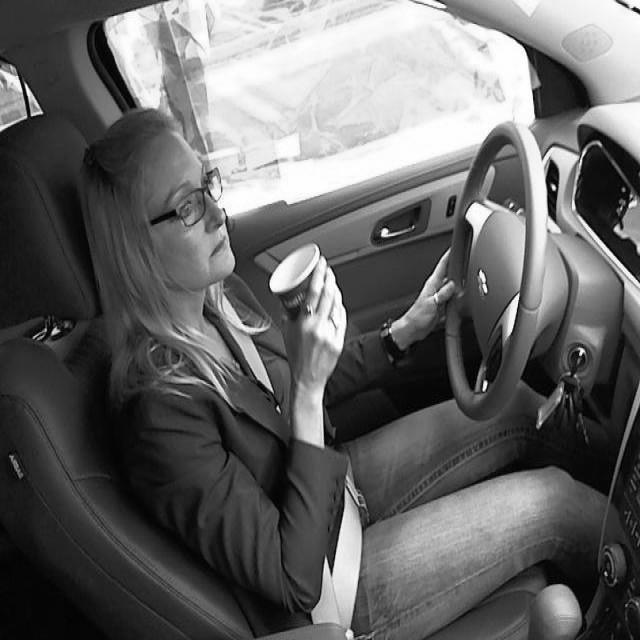Drinking: (267, 241, 327, 330)
